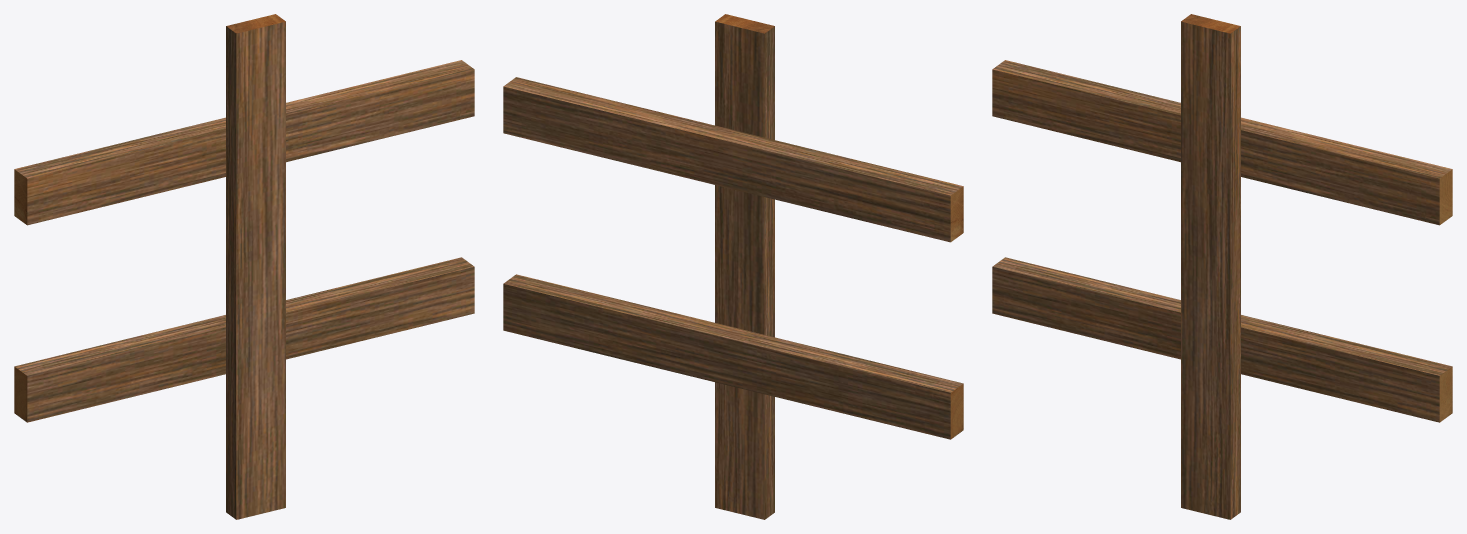
The model's file is fence_wooden.fbx.
3 views of the same model, side by side, from view 1: azimuth 30°, elevation 25°; view 2: azimuth 150°, elevation 25°; view 3: azimuth 330°, elevation 25° (orthographic).
Visible parts, largest first — view 1: pCube10; view 2: pCube10; view 3: pCube10.
Boxes of the visible parts, bbox=[...] form: pCube10: bbox=[14, 14, 474, 519]; pCube10: bbox=[503, 14, 963, 519]; pCube10: bbox=[992, 14, 1452, 519].
Size of the model in its own units: 2 by 2.08 by 0.1802.
